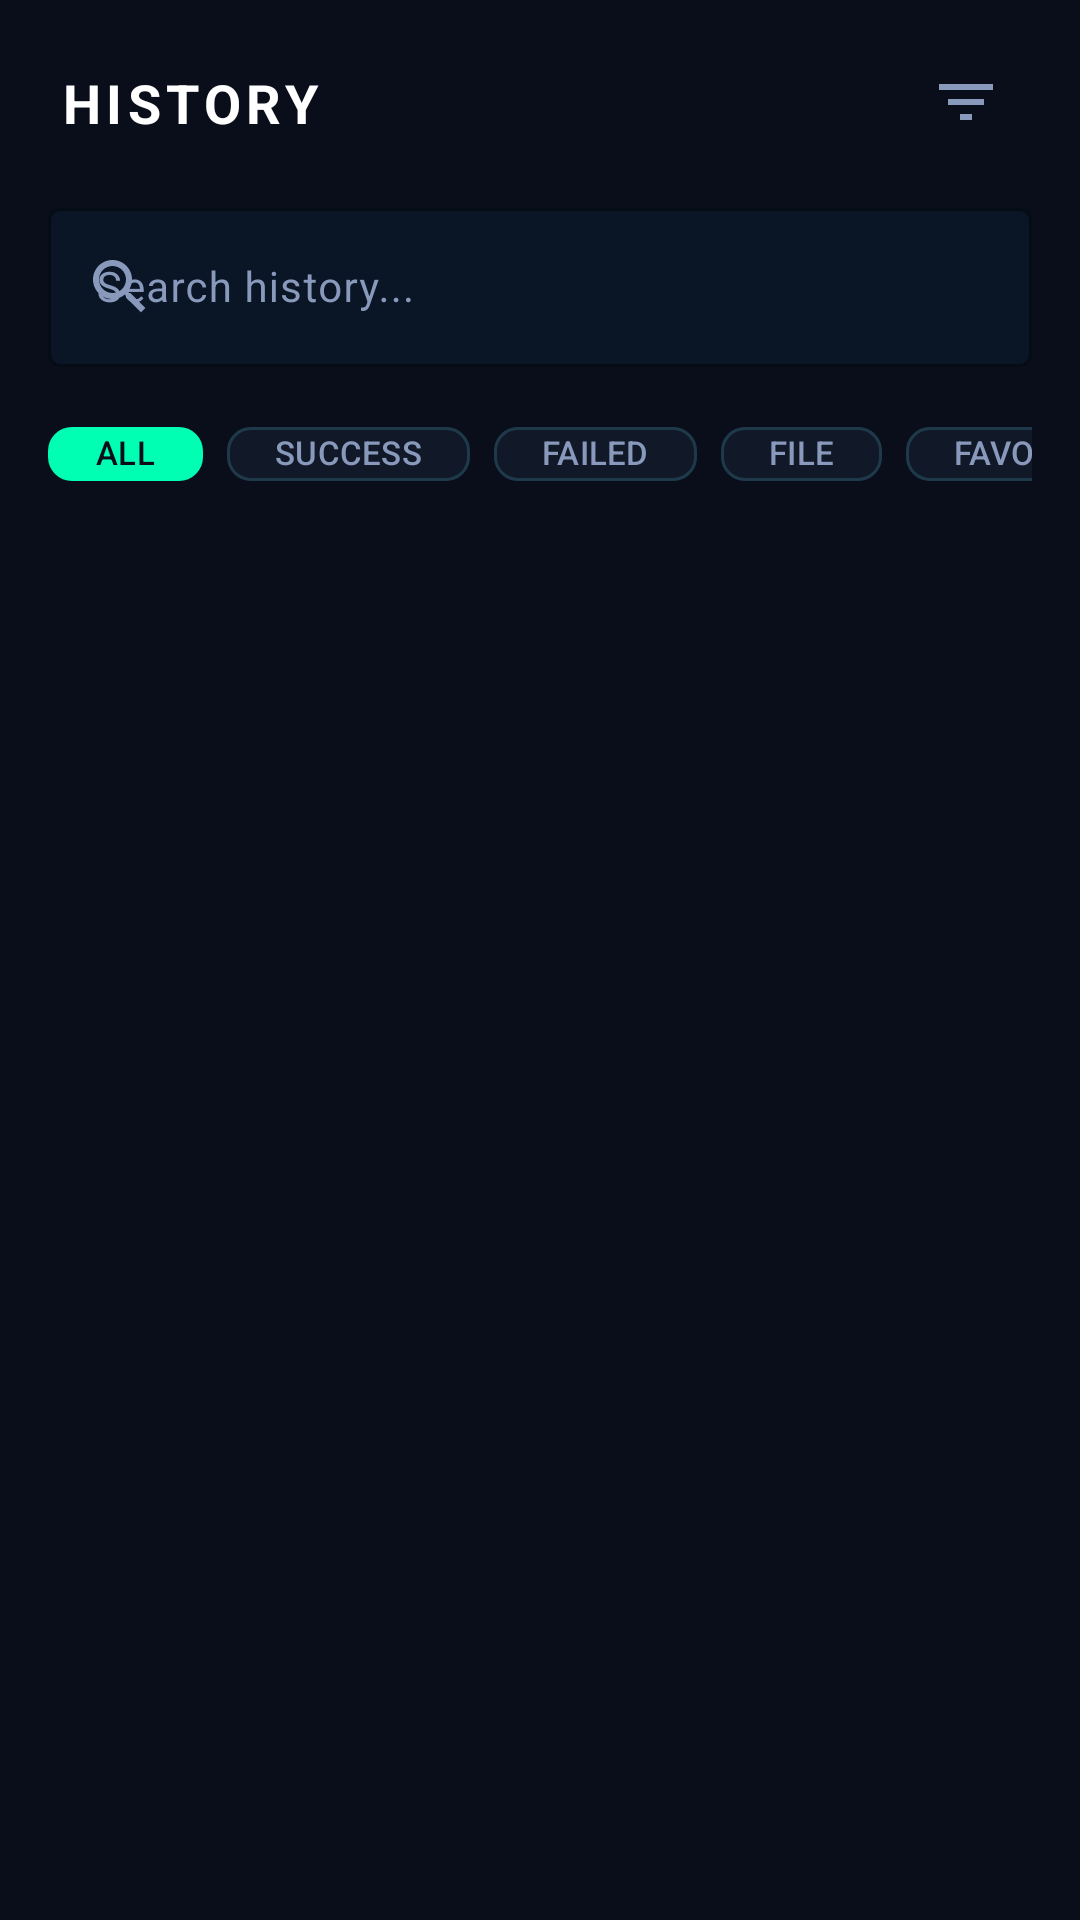

Named icons in this screenshot (1080x1920) and their bounding boxes, region(x1, y1, x2, y2):
Filter: region(939, 84, 993, 120)
